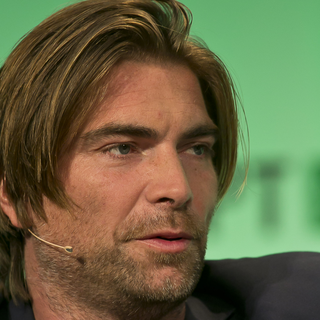eye: (95, 139, 145, 162), (177, 138, 211, 161)
